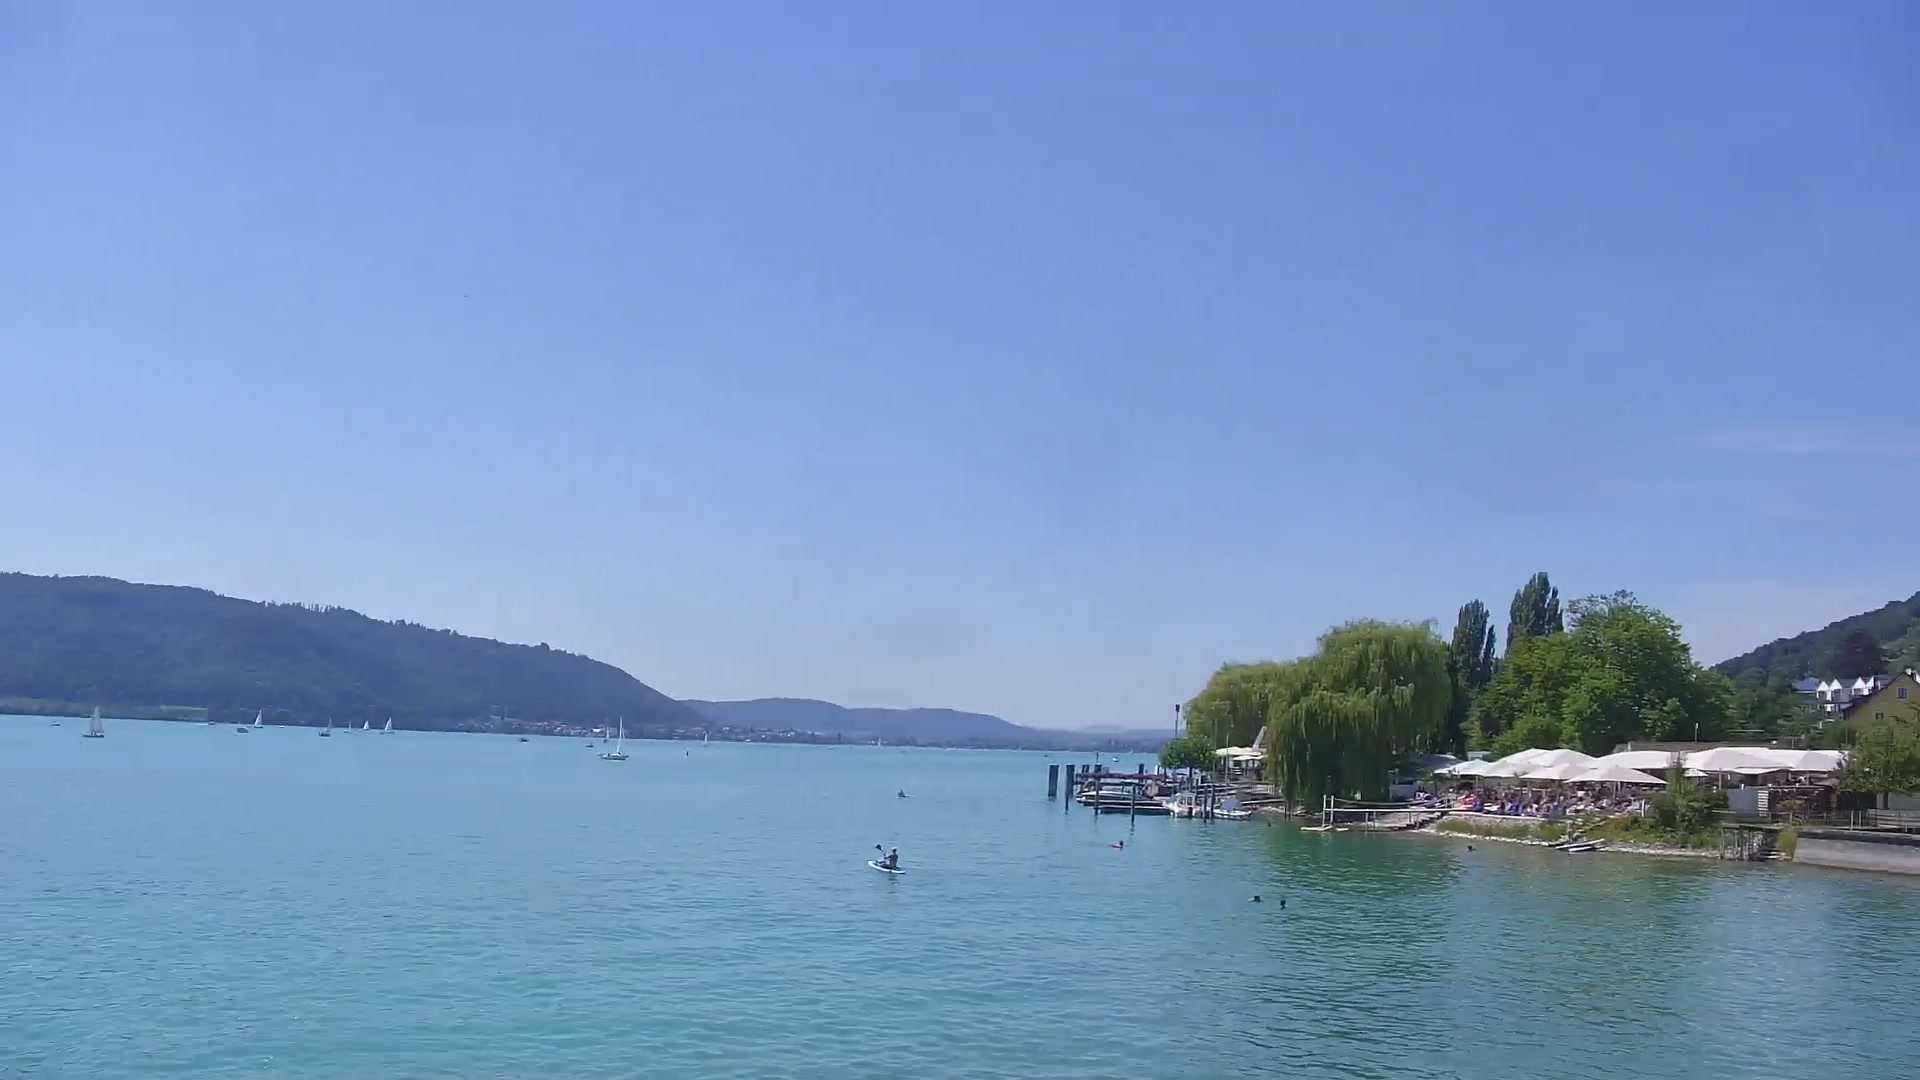human: (874, 845, 899, 868), (1111, 839, 1124, 849), (1279, 897, 1288, 908), (1465, 844, 1477, 853)
sea: (1079, 777, 1152, 804), (598, 712, 630, 762), (79, 702, 104, 738), (1209, 801, 1252, 819), (867, 859, 907, 875), (378, 716, 395, 735), (250, 707, 265, 728), (600, 726, 611, 744), (343, 719, 353, 734), (324, 715, 333, 731), (700, 731, 710, 747), (361, 717, 370, 730), (1111, 754, 1121, 763)
